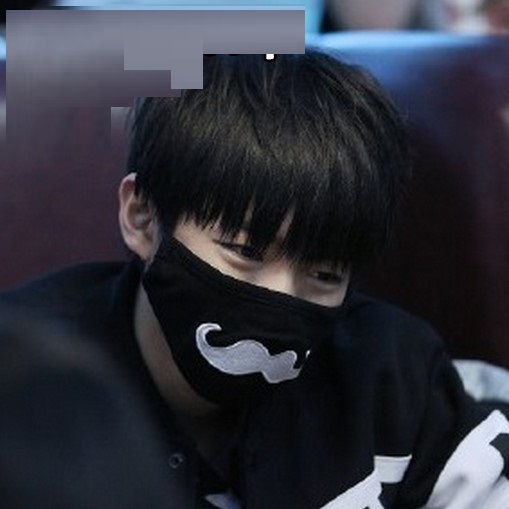face_mask: (166, 164, 356, 412)
